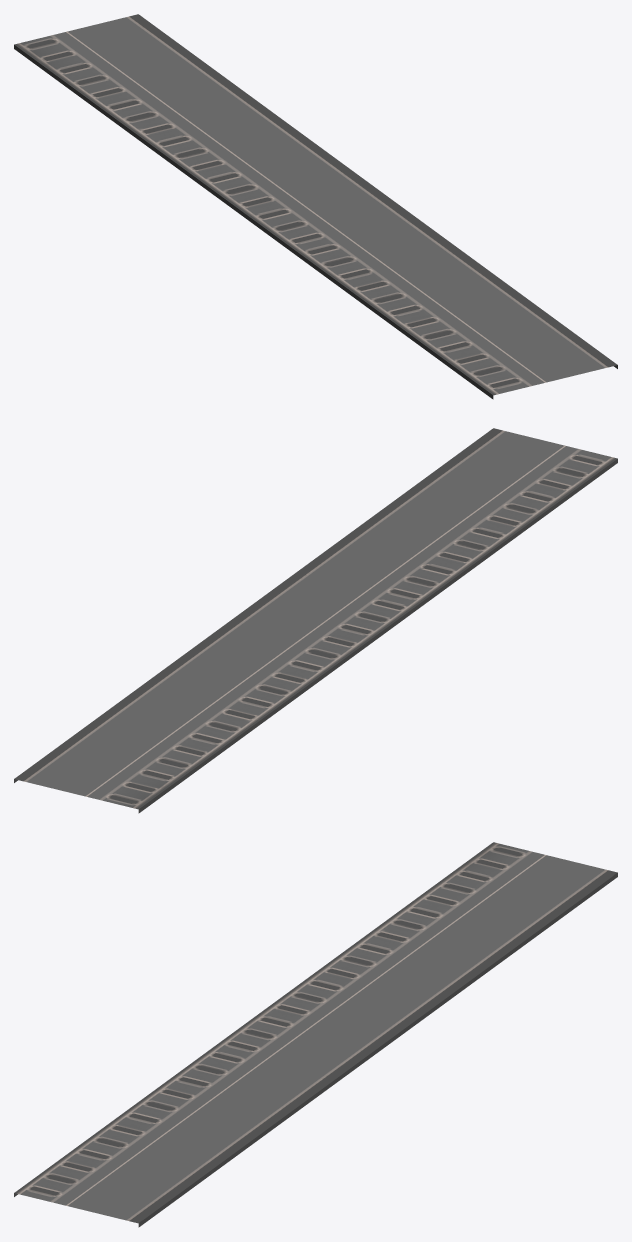
Rendered from S_BottomMetalStraight.gltf.
The picture shows the model from 3 angles, top to bottom: view 1: azimuth 30°, elevation 25°; view 2: azimuth 150°, elevation 25°; view 3: azimuth 330°, elevation 25°; orthographic projection.
Parts seen in each view (by area): view 1: Plane_112-col; view 2: Plane_112-col; view 3: Plane_112-col.
Part boxes in pixels (bbox=[...]): Plane_112-col: bbox=[14, 14, 617, 399]; Plane_112-col: bbox=[14, 428, 617, 813]; Plane_112-col: bbox=[14, 842, 617, 1227].
Bounding box in the file's own units: 0.6 × 0.02 × 4.
2 materials, 2 textured.
